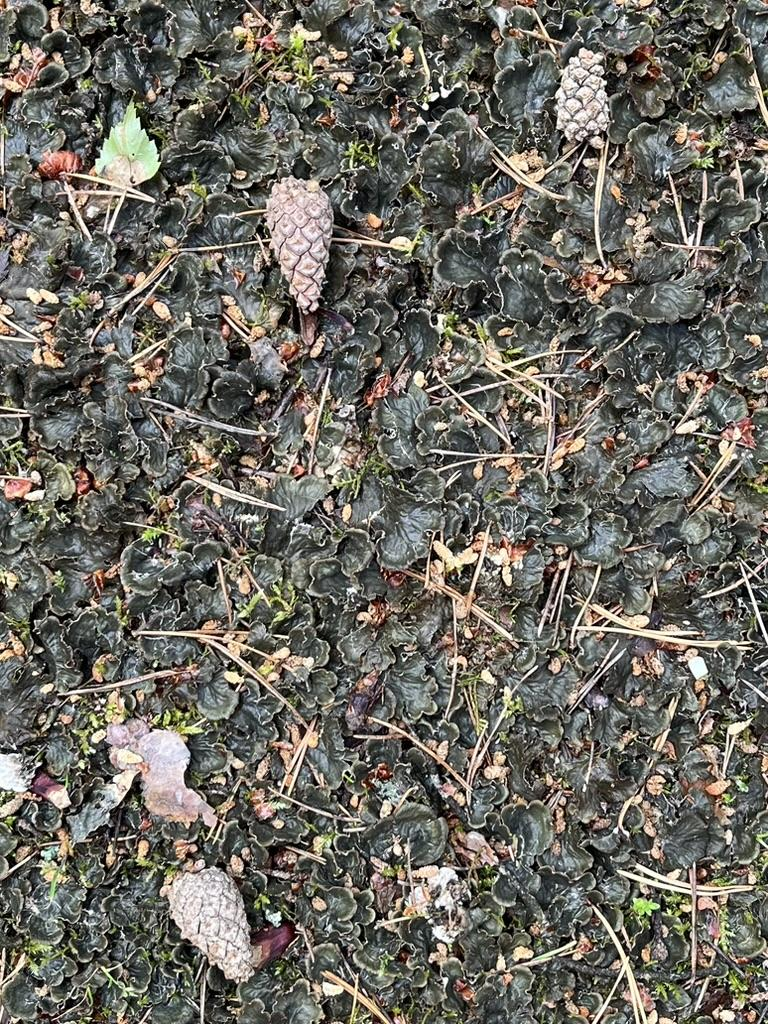pine: (151, 853, 281, 993), (258, 160, 356, 326), (544, 43, 618, 156)
